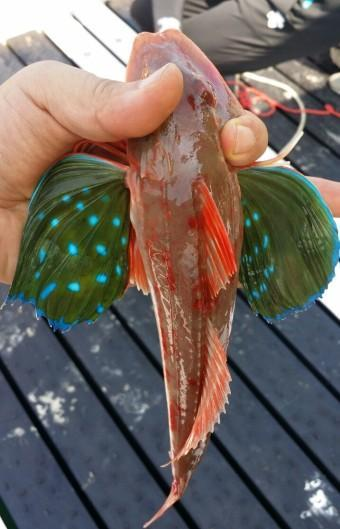fish: (9, 29, 339, 528)
